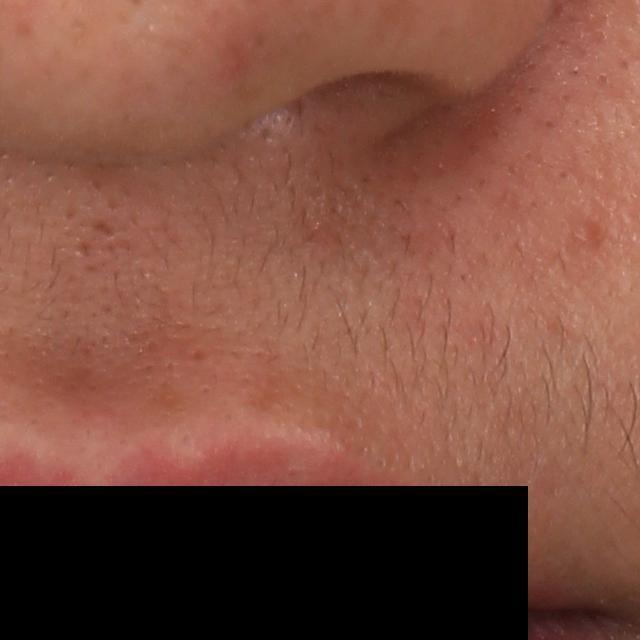atrophic_scar: (92, 218, 120, 241)
